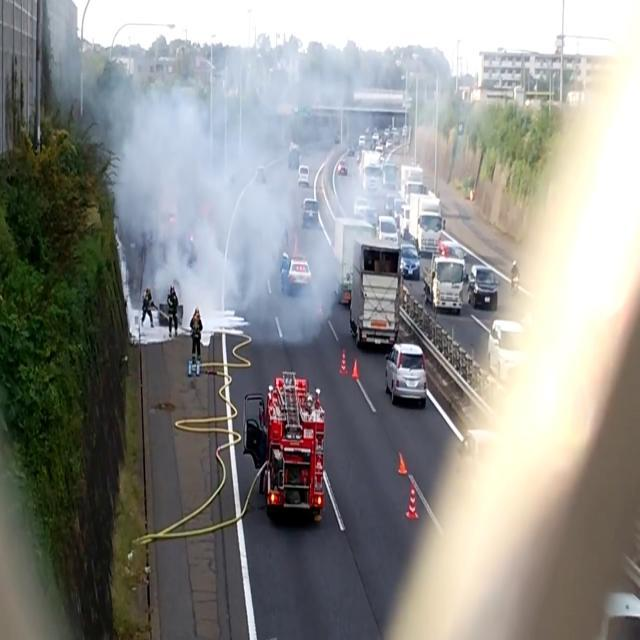Smoke: (67, 0, 365, 316)
